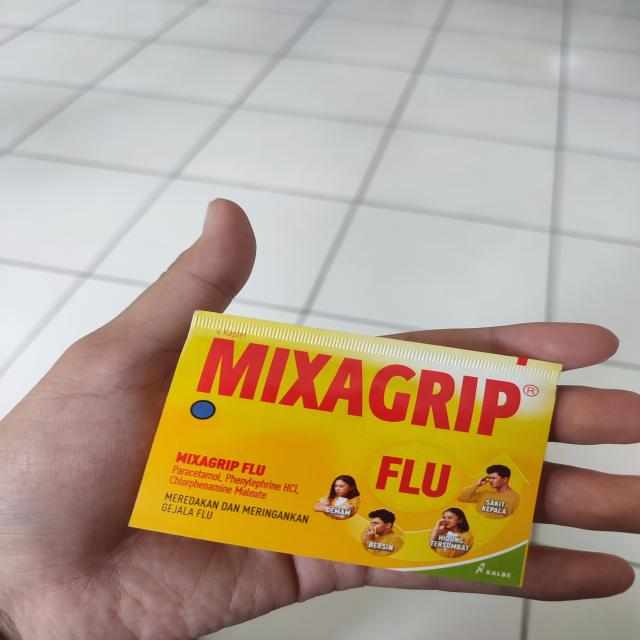B3: (129, 310, 564, 588)
